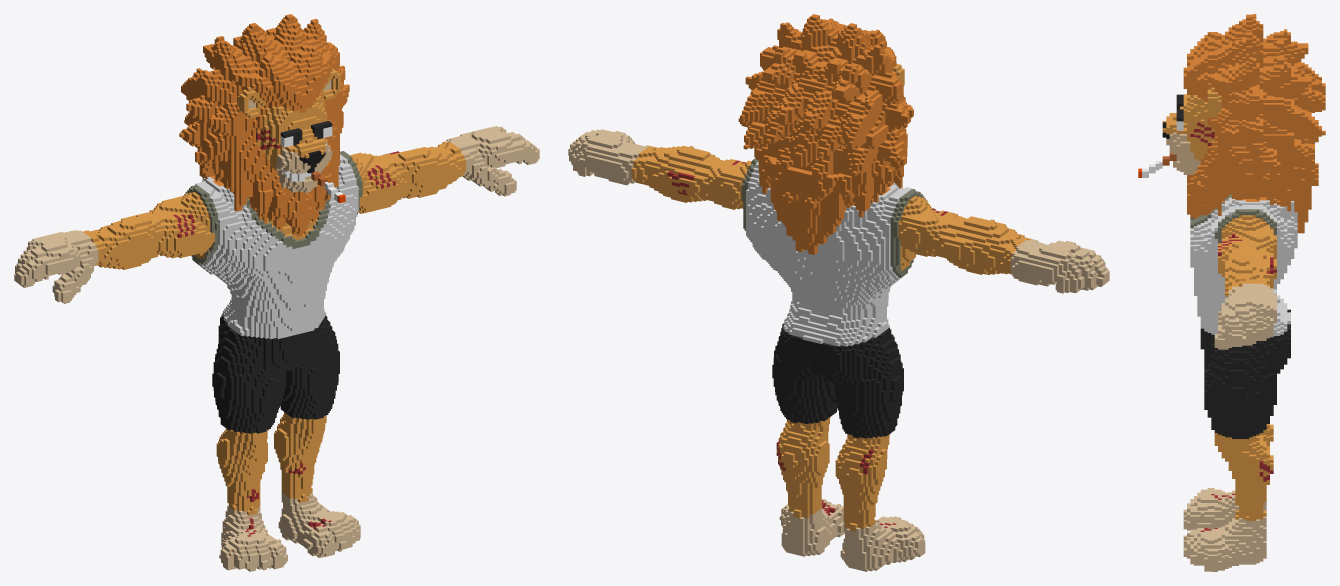
The model's file is 562-BKoGwdJ9.glb.
The picture shows the model from 3 angles, left to right: view 1: azimuth 30°, elevation 25°; view 2: azimuth 150°, elevation 25°; view 3: azimuth 270°, elevation 25°; orthographic projection. The views are drawn at different scales.
Visible parts, largest first — view 1: cigarette; view 2: cigarette; view 3: cigarette.
Boxes of the visible parts, x1=… form: cigarette: x1=14, y1=14, x2=539, y2=571; cigarette: x1=568, y1=14, x2=1109, y2=571; cigarette: x1=1138, y1=14, x2=1325, y2=571.
Size of the model in its own units: 17.2 by 16.5 by 5.4.
Materials: 5 (5 with a texture image).
